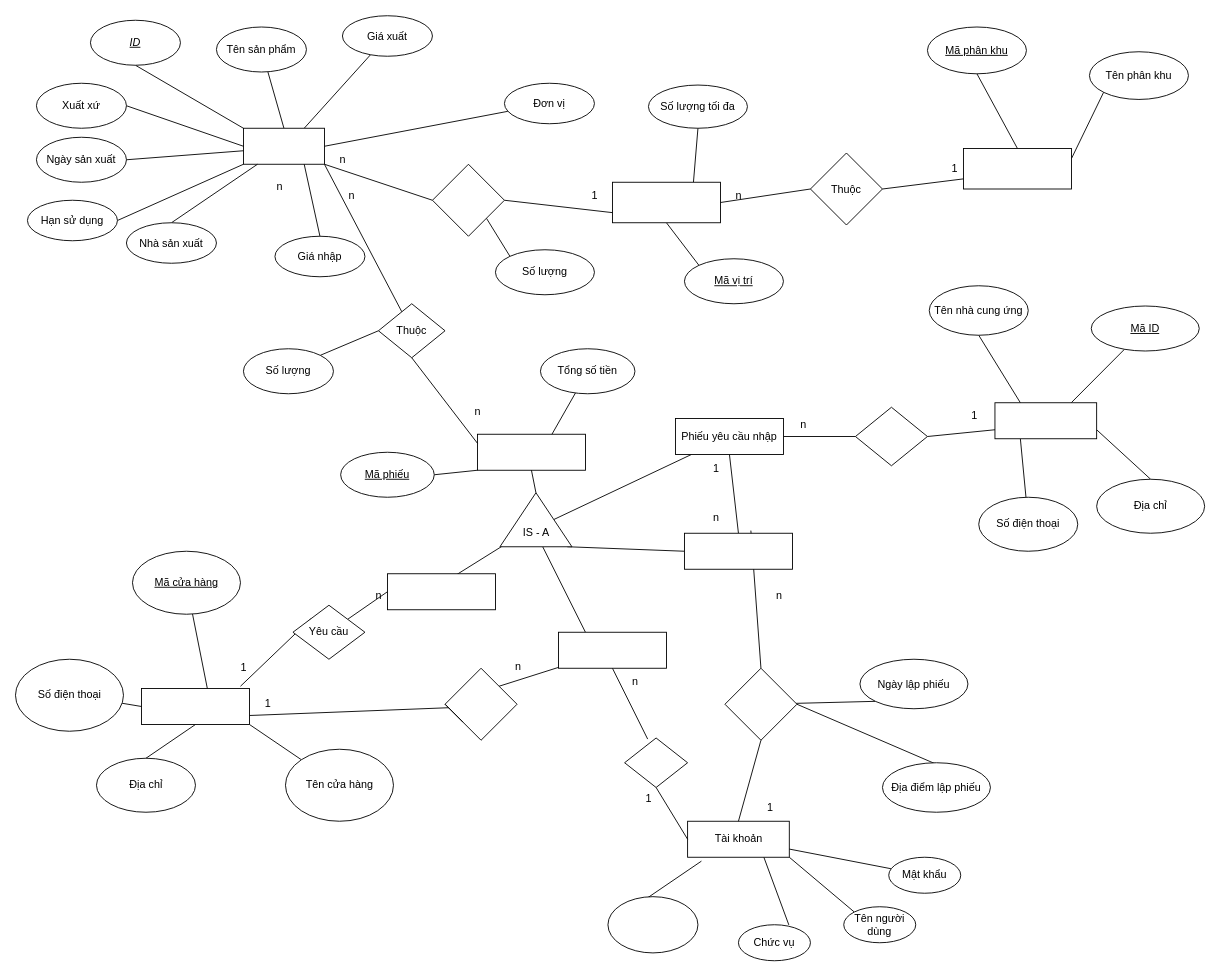
The diagram is 1221 pixels wide and 977 high, and some of its shapes have lost their labels. Here are the shapes that lost their labels. From the top down, the box of each, then its label:
(243, 127, 324, 164): Sản phẩm
(963, 148, 1071, 189): Phân khu
(432, 163, 504, 236): Nằm trong
(612, 181, 720, 223): Vị trí phân khu
(994, 402, 1097, 439): Nhà cung ứng
(477, 433, 585, 470): Phiếu
(684, 532, 792, 569): Phiếu nhập
(387, 573, 495, 610): Phiếu yêu cầu xuất
(558, 631, 666, 668): Phiếu xuất hàng
(141, 688, 249, 724): Cửa hàng
(724, 667, 797, 740): Lập
(607, 896, 698, 953): Tên đăng nhập
